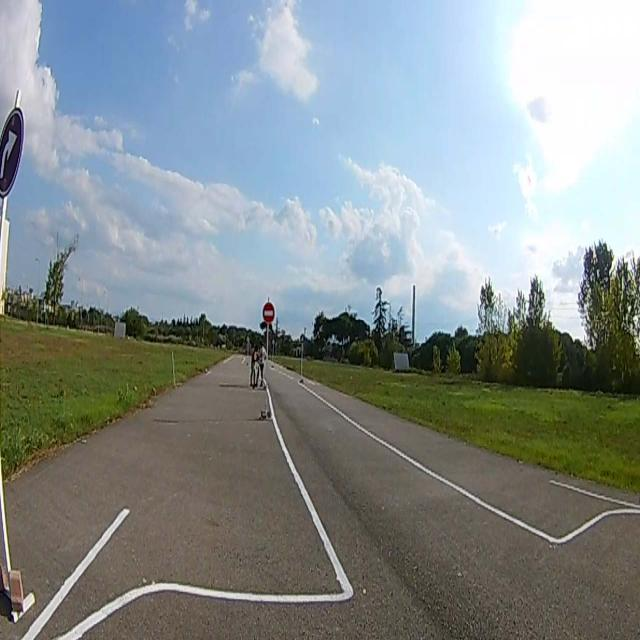girisyok: (263, 302, 275, 321)
sag: (1, 109, 25, 194)
